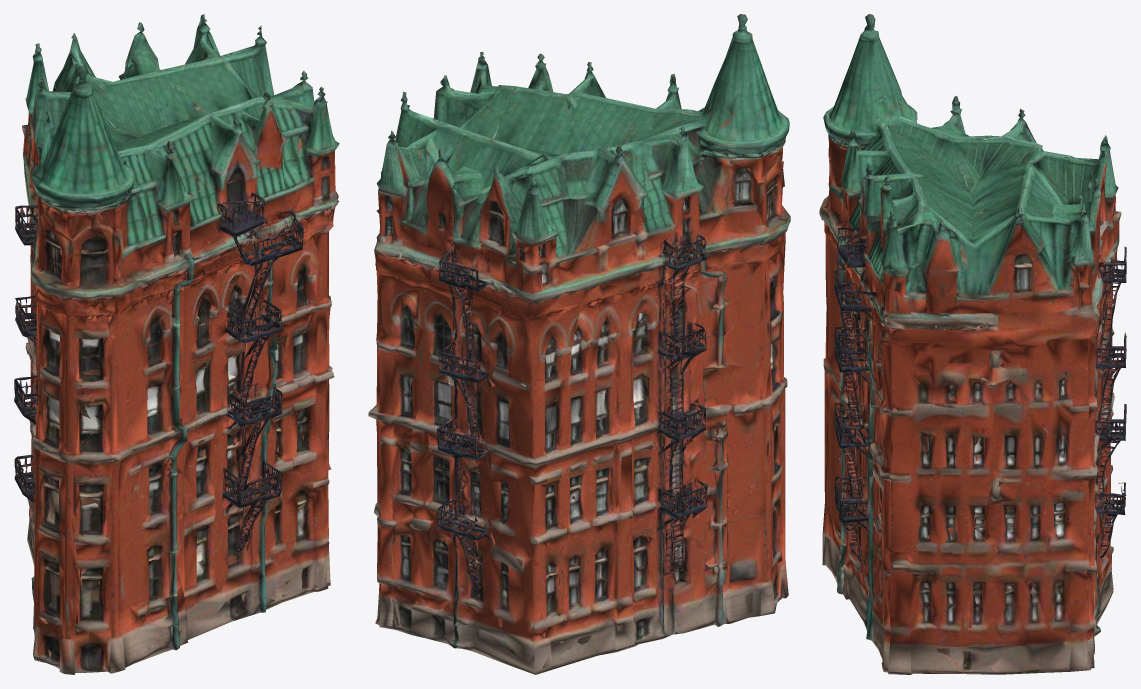
Rendered from building.glb.
3 renders of one model, left to right at view 1: azimuth 30°, elevation 25°; view 2: azimuth 150°, elevation 25°; view 3: azimuth 270°, elevation 25°, orthographic. The views are drawn at different scales.
Bounding box in the file's own units: 1.05 × 1.9 × 0.9754.
1 material, 1 textured.
